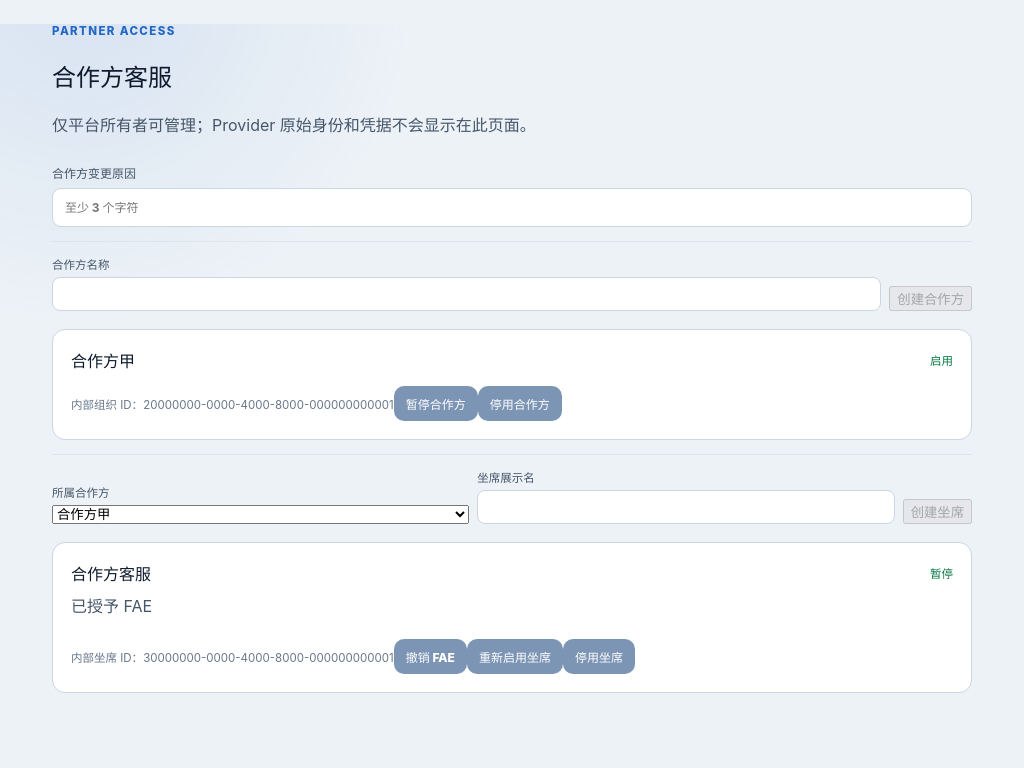
it: PartnerAccessPanel › keeps FAE revocation available for an inactive operator
This screenshot has width=1024, height=768.
Type "紧急撤权" into the field named "合作方变更原因".
click(512, 208); type("紧急撤权")  # box [52, 188, 972, 227]
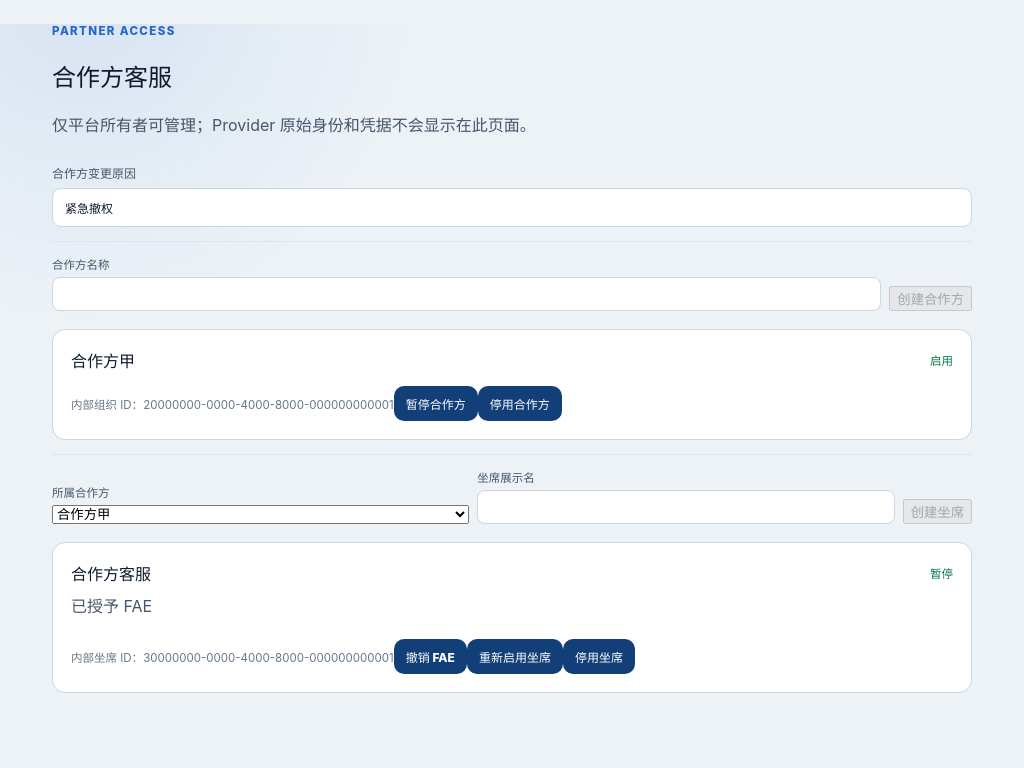
Expected: the button "撤销 FAE" is enabled, [394, 639, 467, 674]
